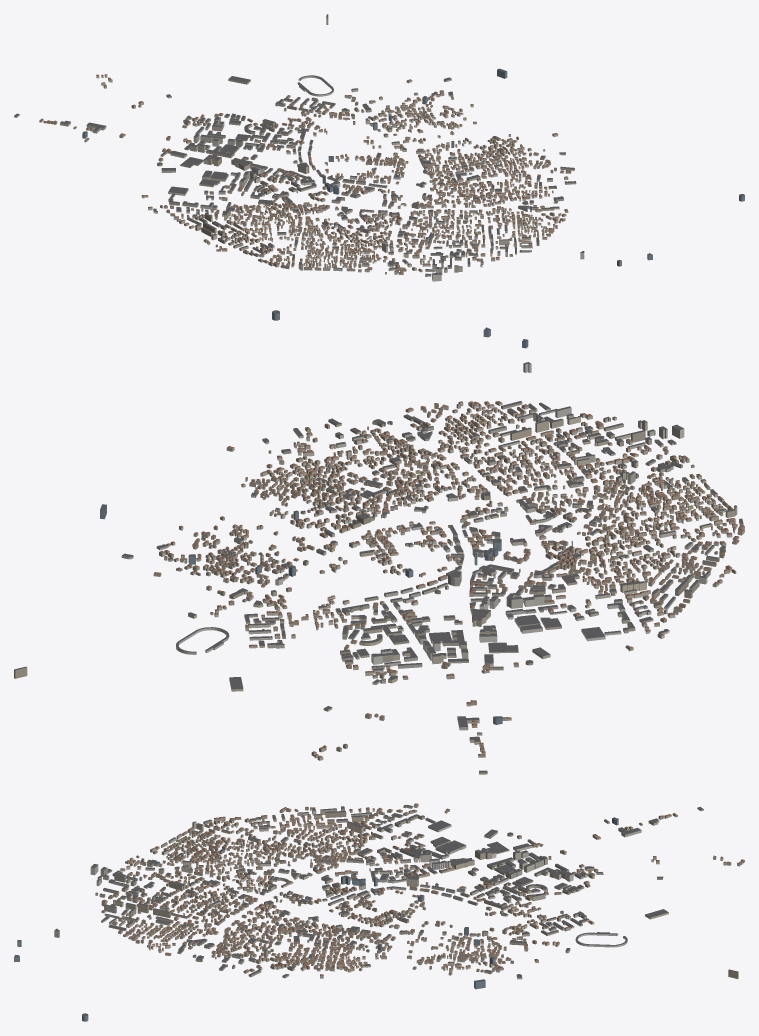
File: buildings.glb
3 renders of one model, top to bottom at view 1: azimuth 30°, elevation 25°; view 2: azimuth 150°, elevation 25°; view 3: azimuth 270°, elevation 25°, orthographic. The views are drawn at different scales.
Visible parts, largest first — view 1: chunk_1_1, chunk_-3_1, chunk_-2_-2, chunk_1_2, chunk_-2_3, chunk_-1_3, chunk_0_2, chunk_-2_0, chunk_-3_2, chunk_0_3, chunk_-2_2, chunk_-1_2 (+24 smaller); view 2: chunk_1_1, chunk_1_2, chunk_0_3, chunk_-3_1, chunk_-2_3, chunk_-1_3, chunk_0_2, chunk_-2_-2, chunk_-3_2, chunk_-2_2, chunk_-2_0, chunk_-2_1 (+25 smaller); view 3: chunk_-3_1, chunk_0_3, chunk_-2_3, chunk_1_1, chunk_-1_3, chunk_-2_-2, chunk_1_2, chunk_0_2, chunk_-2_0, chunk_-3_2, chunk_-3_3, chunk_-2_2 (+27 smaller).
Boxes of the visible parts, x1,y1,x2,y2 form: chunk_1_1: (434,147,512,182); chunk_-3_1: (224,204,299,237); chunk_-2_-2: (183,130,259,164); chunk_1_2: (465,169,547,206); chunk_-2_3: (332,232,417,266); chunk_-1_3: (388,218,465,254); chunk_0_2: (416,182,491,219); chunk_-2_0: (242,170,316,202); chunk_-3_2: (250,224,329,260); chunk_0_3: (442,208,523,239); chunk_-2_2: (307,214,385,245); chunk_-1_2: (359,201,436,230); chunk_1_1: (285,467,391,515); chunk_1_2: (325,430,437,486); chunk_0_3: (447,422,547,472); chunk_-3_1: (573,542,679,592); chunk_-2_3: (582,457,690,512); chunk_-1_3: (512,441,621,493); chunk_0_2: (395,454,506,501); chunk_-2_-2: (389,621,497,668); chunk_-3_2: (617,512,725,561); chunk_-2_2: (552,493,646,539); chunk_-2_0: (470,564,567,606); chunk_-2_1: (503,524,611,575); chunk_-3_1: (289,821,363,854); chunk_0_3: (153,903,225,932); chunk_-2_3: (155,849,226,879); chunk_1_1: (288,931,356,960); chunk_-1_3: (154,875,226,906); chunk_-2_-2: (486,848,553,886); chunk_1_2: (222,930,291,961); chunk_0_2: (221,902,292,933); chunk_-2_0: (354,848,424,882); chunk_-3_2: (221,822,294,852); chunk_-3_3: (161,821,226,851); chunk_-2_2: (223,849,290,880).
Bounding box in the file's own units: 2082 × 124 × 2758.
